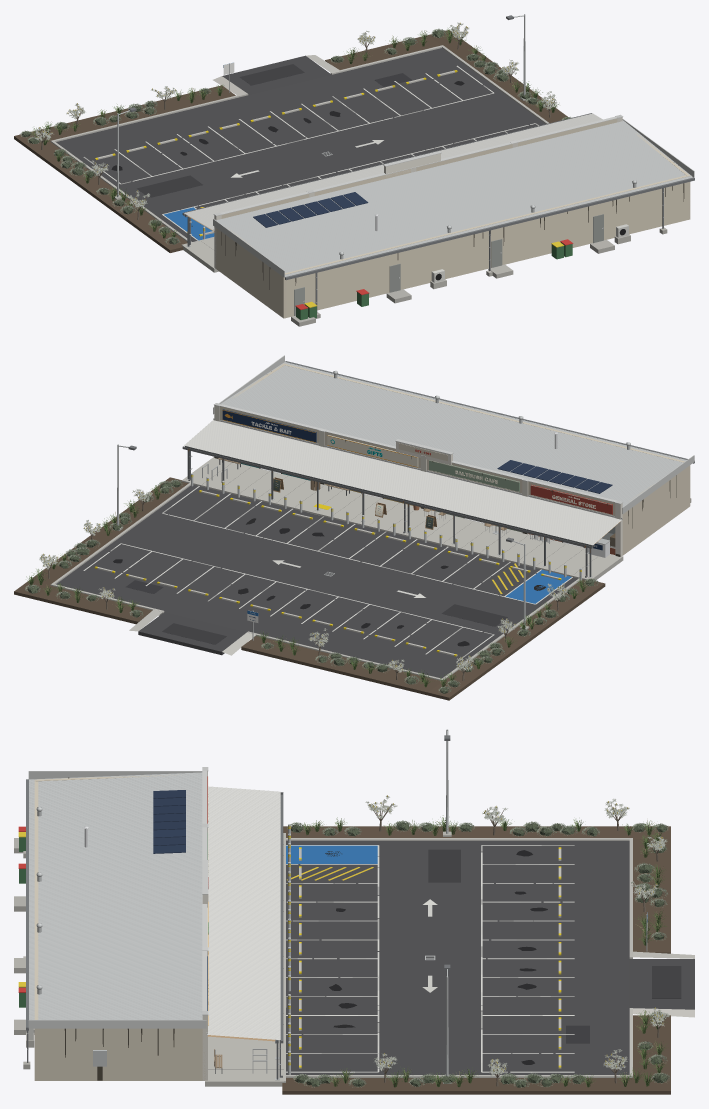
The model's file is village.glb.
3 views of the same model, one above another, from view 1: azimuth 30°, elevation 25°; view 2: azimuth 150°, elevation 25°; view 3: azimuth 270°, elevation 25° (orthographic). The views are drawn at different scales.
Parts seen in each view (by area): view 1: Village Shell; view 2: Village Shell; view 3: Village Shell.
Boxes of the visible parts, x1,y1,x2,y2 form: Village Shell: (14,14,694,326); Village Shell: (14,355,694,700); Village Shell: (14,729,694,1094).
Bounding box in the file's own units: 36.8 × 7.15 × 39.6.
